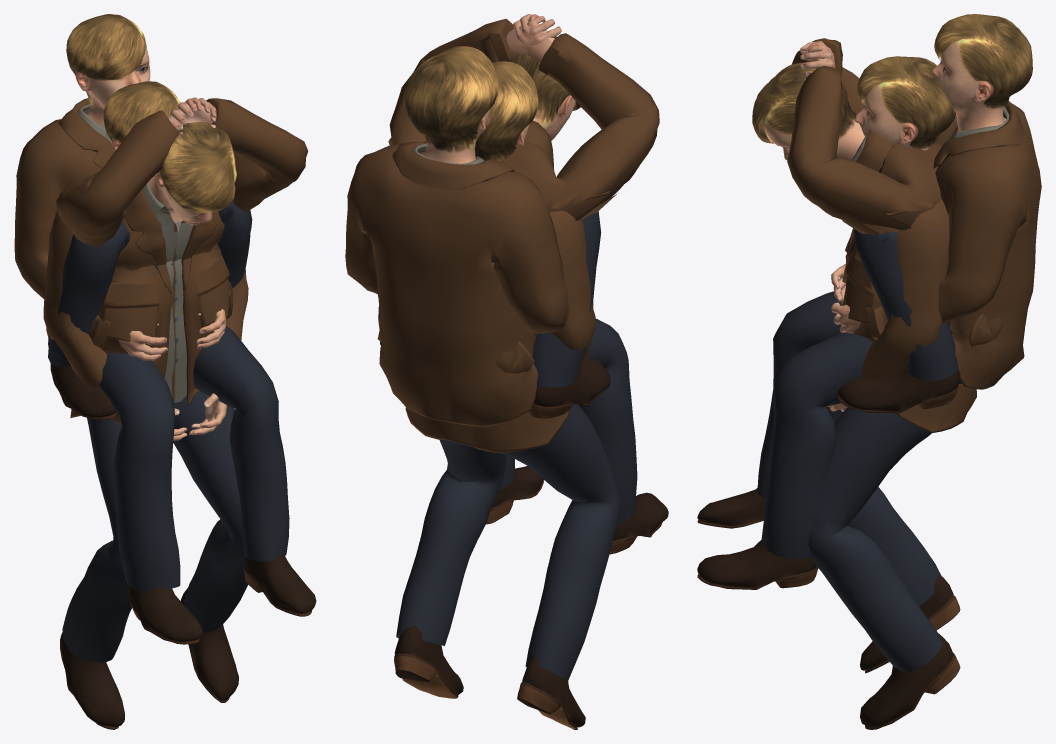
The model's file is civ_jacke.glb.
The picture shows the model from 3 angles, left to right: view 1: azimuth 30°, elevation 25°; view 2: azimuth 150°, elevation 25°; view 3: azimuth 270°, elevation 25°; orthographic projection. The views are drawn at different scales.
Visible parts, largest first — view 1: seat, lie, cower; view 2: seat, lie, cower; view 3: seat, lie, cower.
Part boxes in pixels (x1,y1,x2,y2): seat: [14, 14, 316, 644]; lie: [43, 81, 248, 729]; cower: [48, 97, 308, 420]; seat: [345, 46, 668, 554]; lie: [377, 61, 621, 729]; cower: [377, 14, 659, 418]; seat: [697, 14, 1041, 589]; lie: [808, 56, 976, 729]; cower: [752, 38, 1003, 413].
Size of the model in its own units: 0.6009 by 1.68 by 0.7689.
7 materials, 7 textured.
